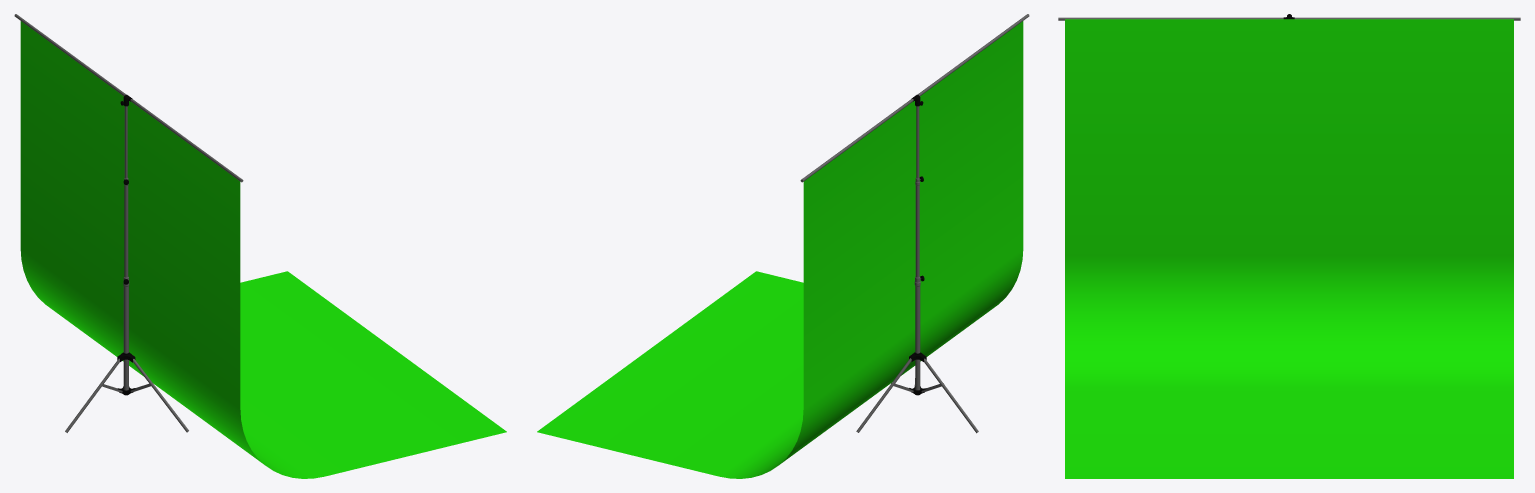
The model's file is greenscreen.fbx.
3 renders of one model, left to right at view 1: azimuth 30°, elevation 25°; view 2: azimuth 150°, elevation 25°; view 3: azimuth 270°, elevation 25°, orthographic. The views are drawn at different scales.
Parts seen in each view (by area): view 1: Plane, Cylinder.003, Cylinder; view 2: Plane, Cylinder.003, Cylinder; view 3: Plane, Cylinder.003.
Boxes of the visible parts, box(x1,y1,x2,y2) form: Plane: box(20, 21, 506, 478); Cylinder.003: box(14, 14, 243, 182); Cylinder: box(123, 286, 128, 390); Plane: box(537, 21, 1023, 478); Cylinder.003: box(800, 14, 1029, 182); Cylinder: box(915, 286, 920, 390); Plane: box(1065, 19, 1513, 478); Cylinder.003: box(1058, 17, 1520, 20).
Size of the model in its own units: 848 by 789 by 1000.
